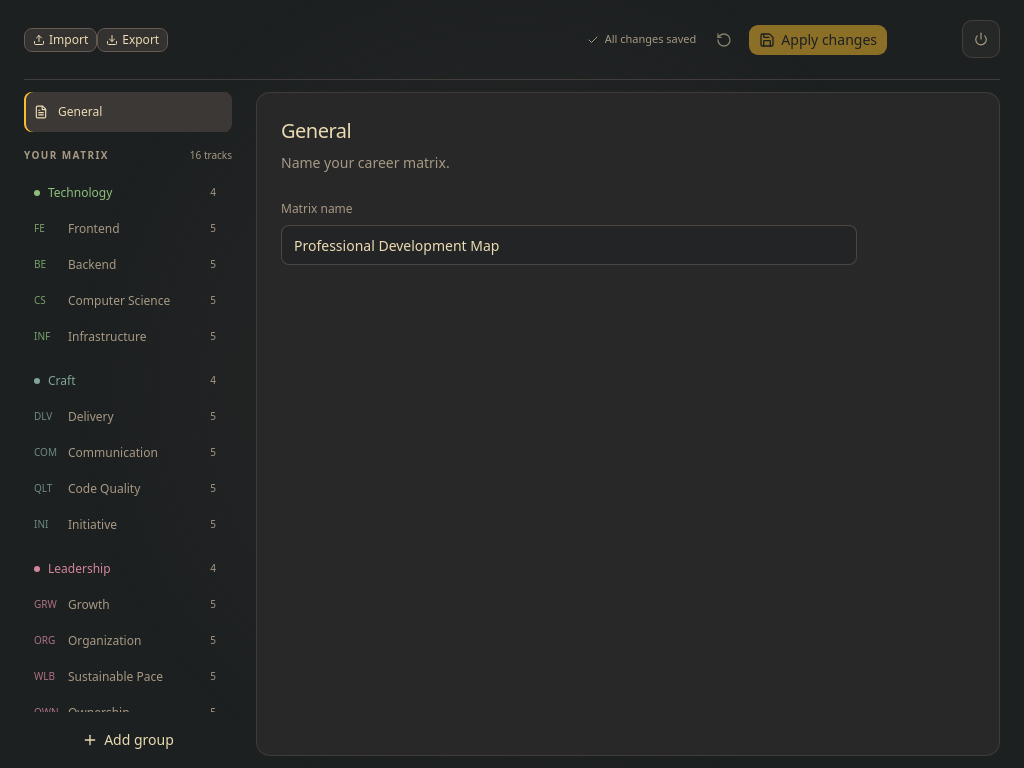
<SettingsScreen /> › imports a document and resets the settings form
What coordinates should you click on to do the following:
click the button "Import"
I would click on:
 (61, 40)
Its box is [24,28,97,52].
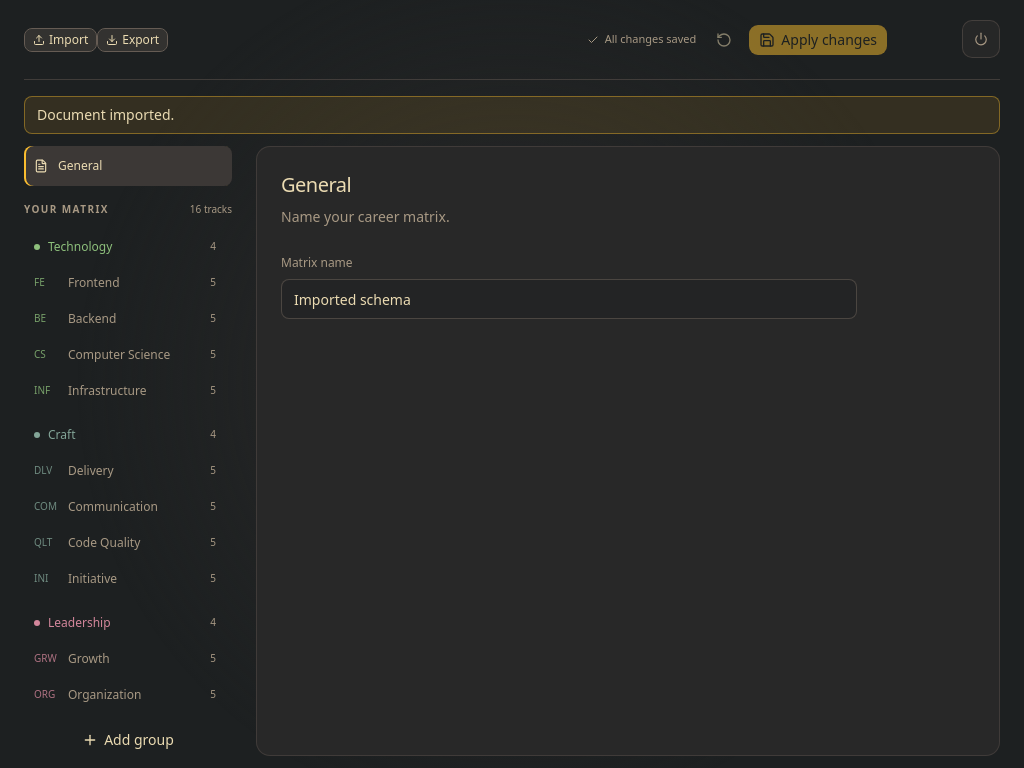
Expected: the button "Apply changes" is disabled, [748,24,888,56]
Now the field labelled "Matrix name" holds "Imported schema", box [281,279,857,319]
Now the text "Document imported." is shown, box [24,96,1000,134]
